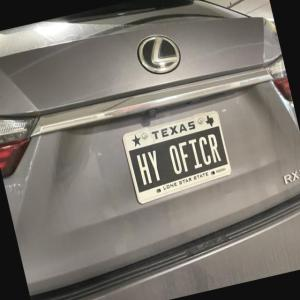Plate: (121, 109, 232, 205)
